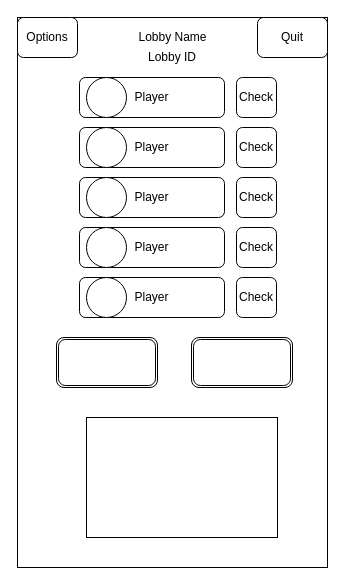
This 345x585 diagram has some shape labels left out. The centre of each missing label's shape, as x and y in pixels:
"Disconnect" belongs at point 241,362.
"Game rules summery" belongs at point 182,477.
"Ready" belongs at point 107,362.
